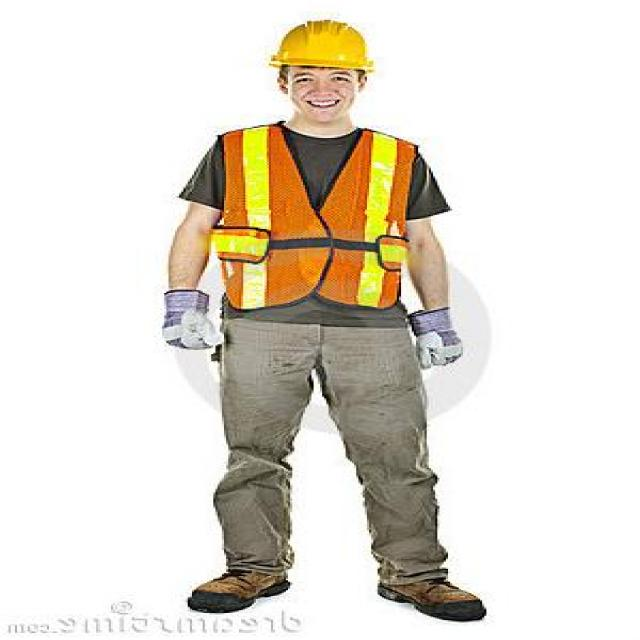Reflective-Jacket: (194, 120, 440, 318)
Safety-Helmet: (262, 14, 382, 77)
